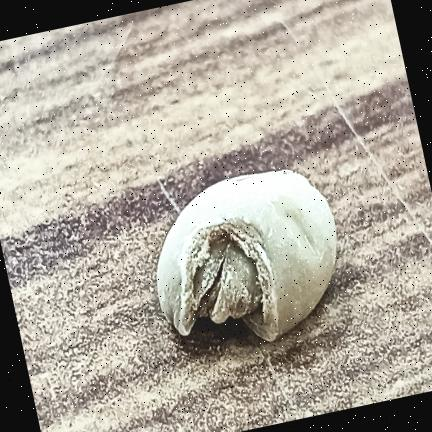broken: (157, 170, 337, 341)
